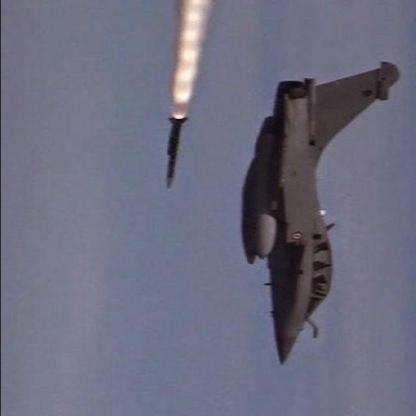MIL_TBM: (164, 116, 190, 190)
